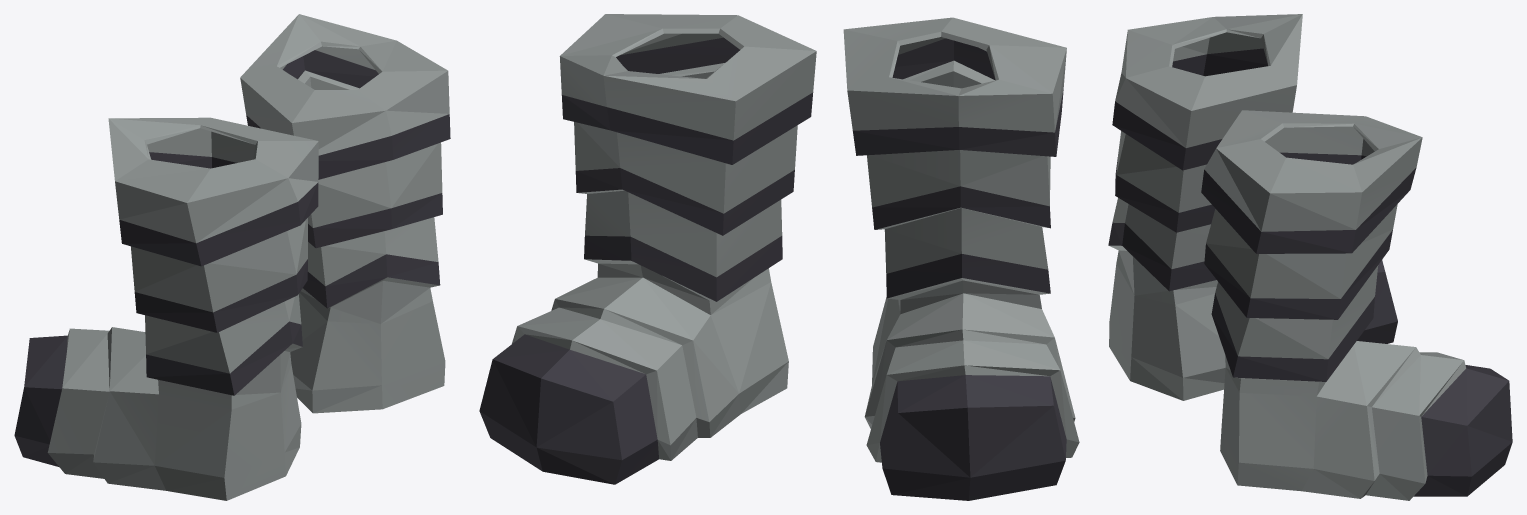
Rendered from bootsMetalDisplay.fbx.
The picture shows the model from 3 angles, left to right: view 1: azimuth 30°, elevation 25°; view 2: azimuth 150°, elevation 25°; view 3: azimuth 270°, elevation 25°; orthographic projection. The views are drawn at different scales.
Visible parts, largest first — view 1: bootsMetalDisplay; view 2: bootsMetalDisplay; view 3: bootsMetalDisplay.
Part boxes in pixels (x1=…): bootsMetalDisplay: x1=14, y1=14, x2=450, y2=500; bootsMetalDisplay: x1=479, y1=14, x2=1079, y2=500; bootsMetalDisplay: x1=1108, y1=14, x2=1512, y2=500.
Size of the model in its own units: 1.62 by 1.13 by 1.29.
